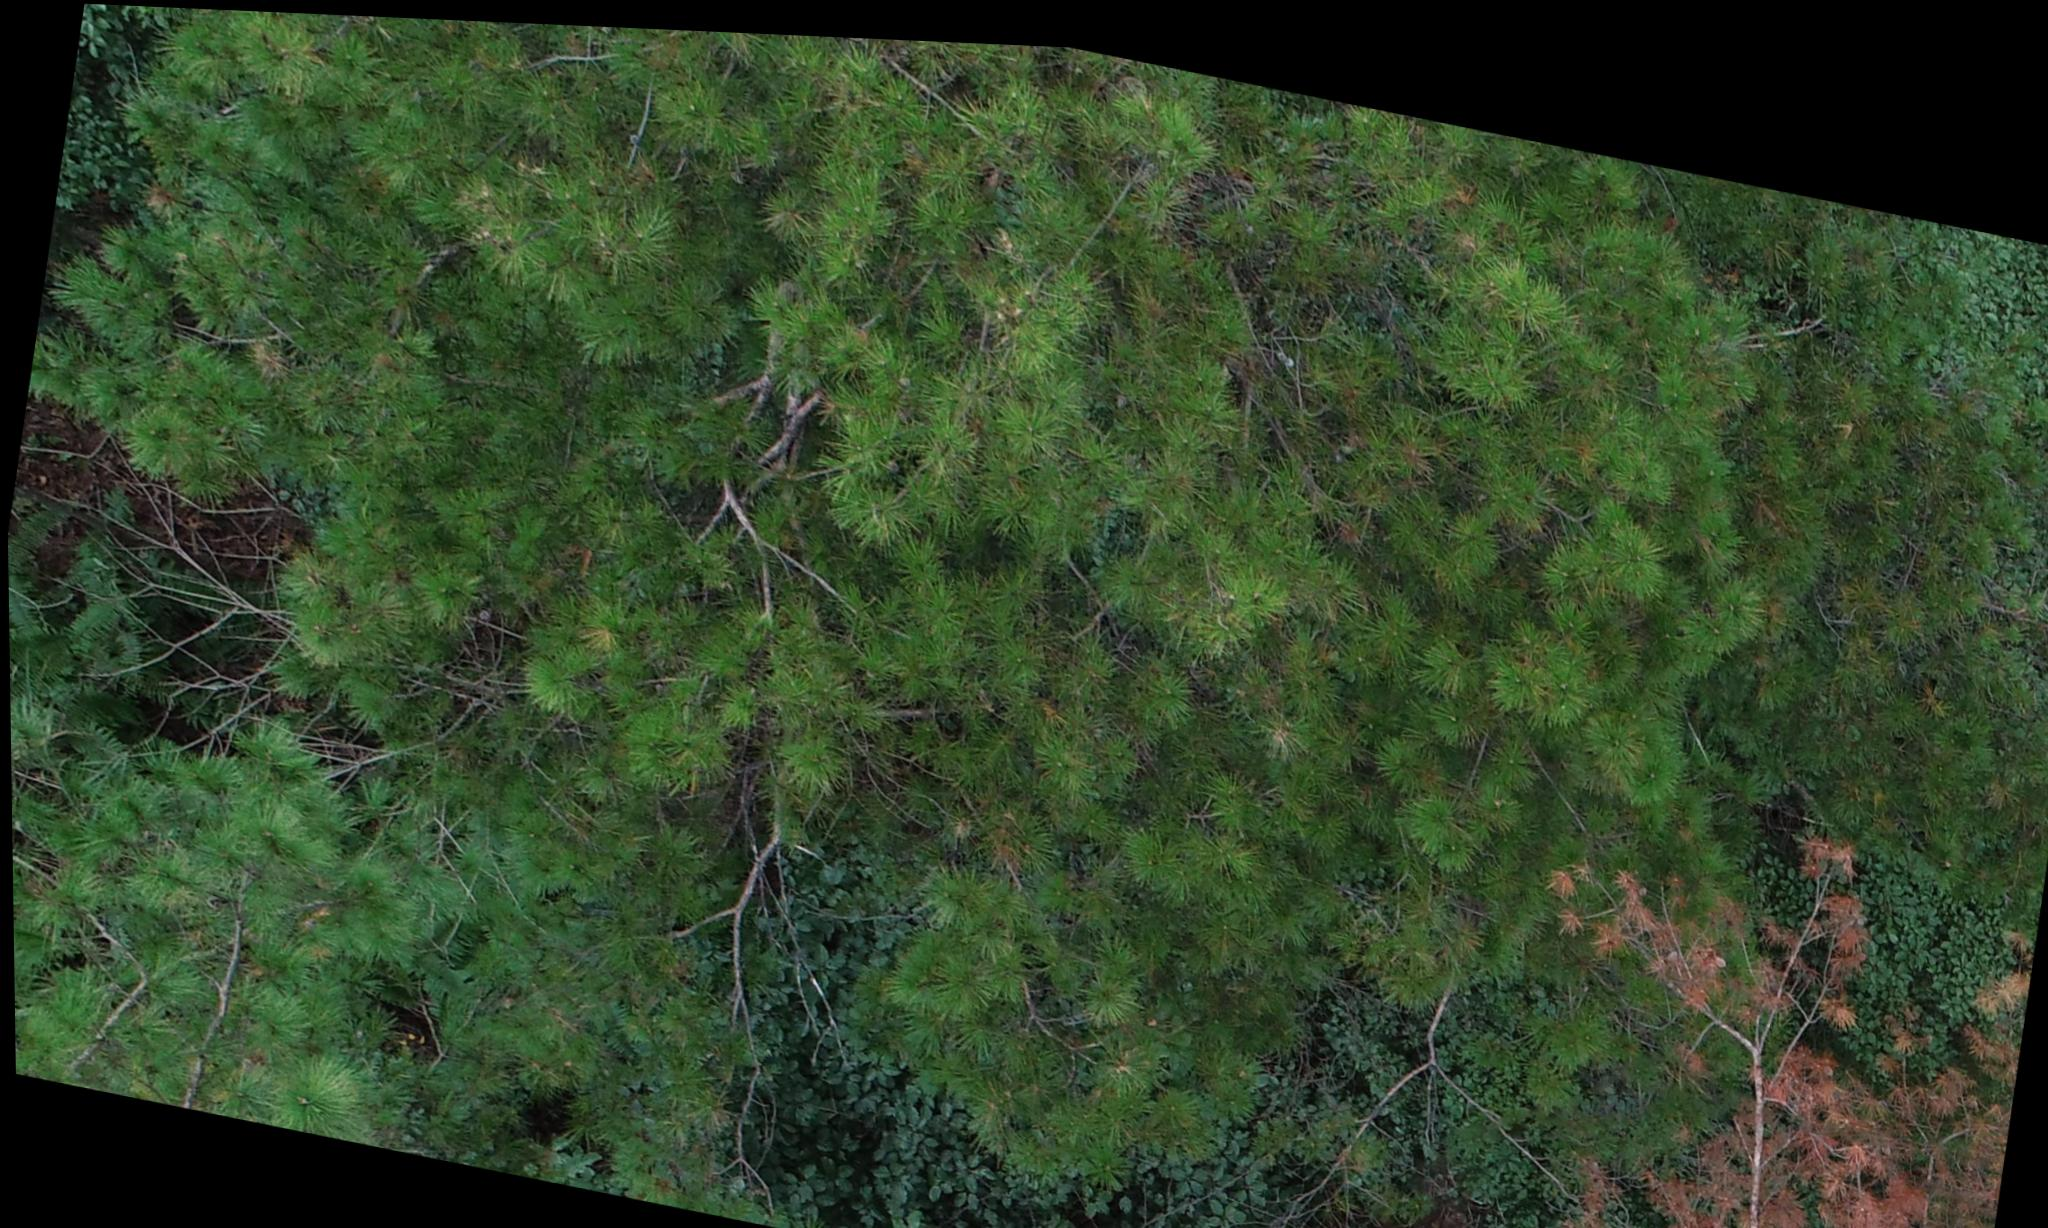heavy: (1462, 785, 2044, 1228)
